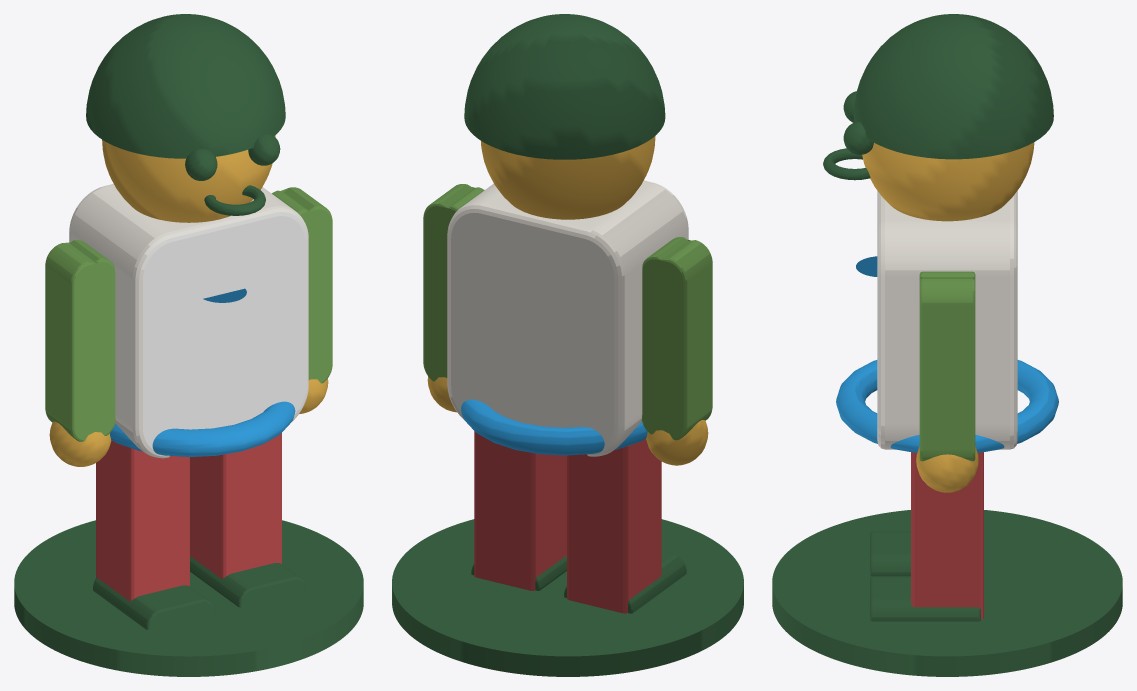
The model's file is 1322_中国古代寓言_韩非.glb.
3 renders of one model, left to right at view 1: azimuth 30°, elevation 25°; view 2: azimuth 150°, elevation 25°; view 3: azimuth 270°, elevation 25°, orthographic.
Parts seen in each view (by area): view 1: card_1322; view 2: card_1322; view 3: card_1322.
Boxes of the visible parts, left/top/right/bottom form: card_1322: left=14, top=14, right=363, bottom=676; card_1322: left=392, top=14, right=743, bottom=676; card_1322: left=772, top=14, right=1122, bottom=676.
Bounding box in the file's own units: 0.5373 × 1 × 0.537.
